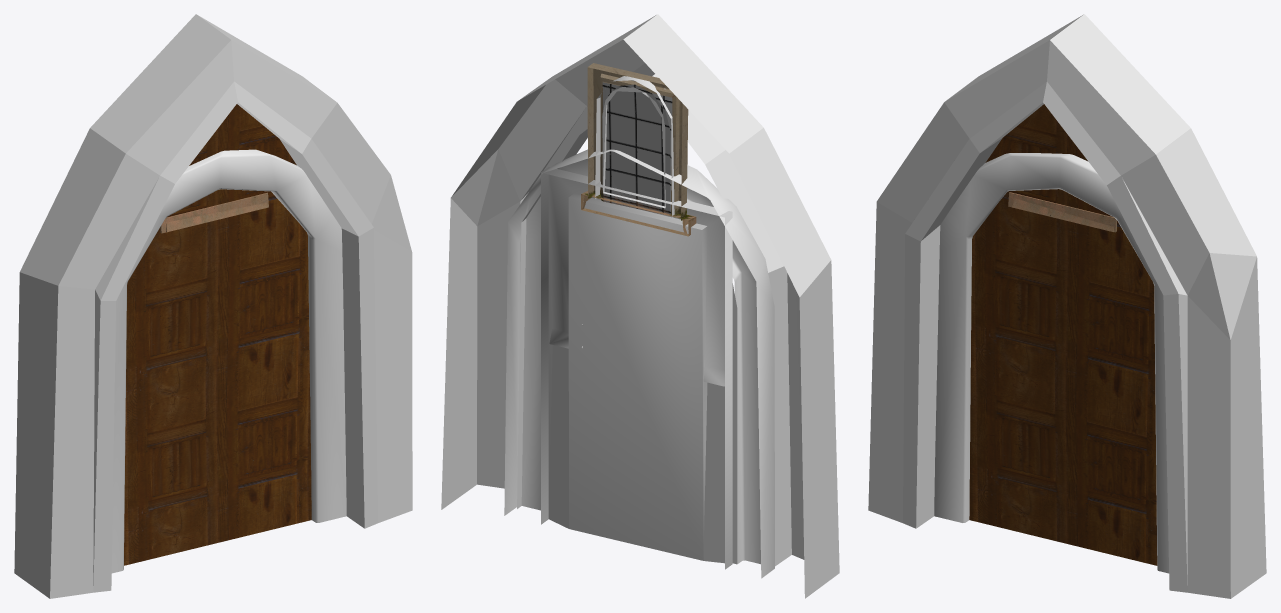
Rendered from DoorWindowsSamplesLow.fbx.
3 renders of one model, left to right at view 1: azimuth 30°, elevation 25°; view 2: azimuth 150°, elevation 25°; view 3: azimuth 330°, elevation 25°, orthographic.
Parts seen in each view (by area): view 1: Door1.404, Door2.755, Window3.1056, Window1.2275; view 2: Door1.404, Door3.290, Door2.755, Window1.2275, Window3.1056; view 3: Door1.404, Door2.755, Window3.1056, Window1.2275.
Part boxes in pixels (x1,y1,x2,y2): Door1.404: (14,14,412,598); Door2.755: (111,149,346,573); Window3.1056: (160,192,268,233); Window1.2275: (166,202,268,232); Door1.404: (441,14,839,598); Door3.290: (541,167,732,569); Door2.755: (504,149,774,578); Window1.2275: (582,76,688,234); Window3.1056: (581,63,696,236); Door1.404: (868,14,1266,598); Door2.755: (934,153,1168,573); Window3.1056: (1008,192,1116,232); Window1.2275: (1012,198,1114,231).
Bounding box in the file's own units: 234 × 316 × 46.87.
